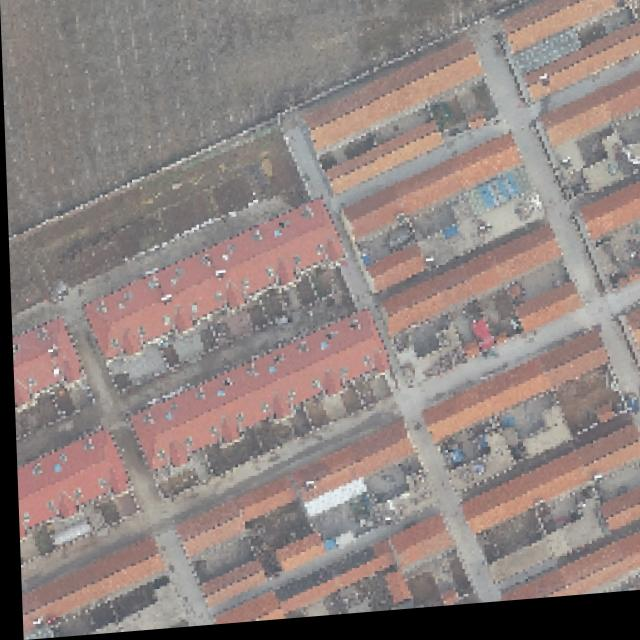Batiment: (85, 205, 339, 359), (422, 343, 603, 449), (305, 50, 480, 156), (380, 235, 556, 340), (460, 438, 639, 537), (344, 146, 519, 244), (211, 550, 388, 623), (19, 542, 159, 630), (497, 540, 640, 605), (291, 428, 406, 506), (176, 484, 291, 560), (524, 35, 640, 108), (506, 0, 640, 60), (326, 131, 441, 198), (541, 82, 640, 155), (10, 318, 77, 405), (579, 192, 640, 248), (385, 522, 448, 574), (364, 250, 424, 298), (514, 295, 577, 340), (199, 567, 258, 608), (270, 537, 321, 575), (597, 496, 640, 539)
